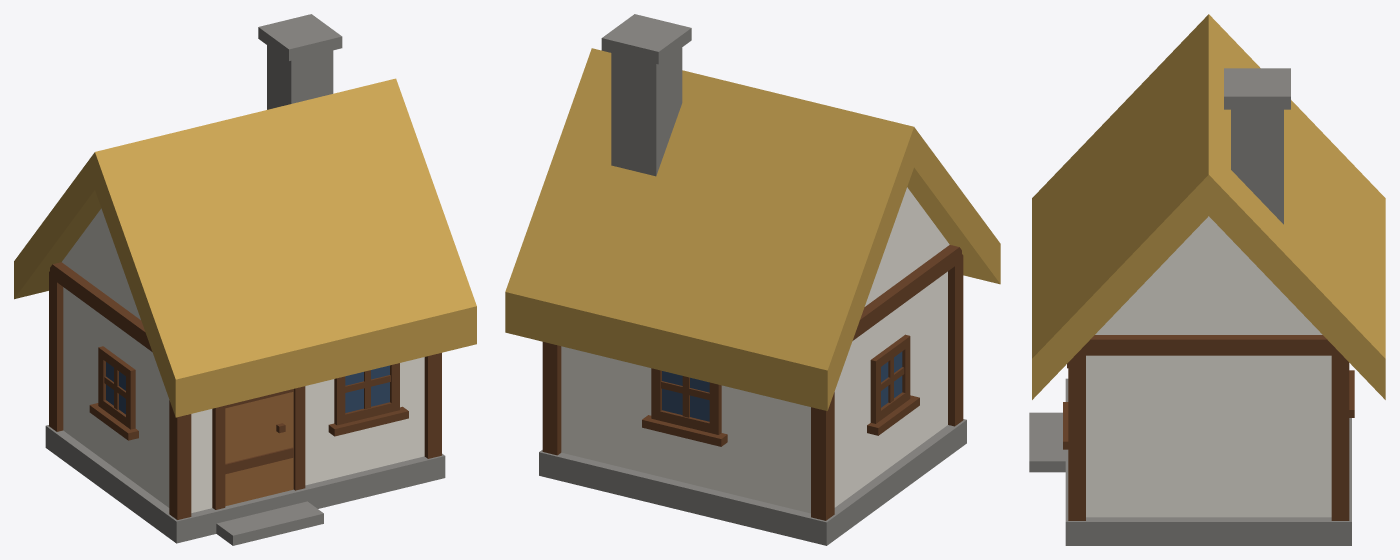
The model's file is cottage.glb.
The picture shows the model from 3 angles, left to right: view 1: azimuth 30°, elevation 25°; view 2: azimuth 150°, elevation 25°; view 3: azimuth 270°, elevation 25°; orthographic projection. The views are drawn at different scales.
Visible parts, largest first — view 1: Cottage roof, Cottage walls, Cottage plinth, Cottage timbers, Cottage door, Cottage chimney, Cottage window frames, Cottage door frame, Cottage step, Cottage windows; view 2: Cottage roof, Cottage walls, Cottage plinth, Cottage chimney, Cottage timbers, Cottage window frames, Cottage windows; view 3: Cottage roof, Cottage walls, Cottage timbers, Cottage plinth, Cottage chimney, Cottage step, Cottage window frames.
Boxes of the visible parts, x1=… form: Cottage roof: x1=14, y1=78, x2=476, y2=417; Cottage walls: x1=62, y1=208, x2=424, y2=512; Cottage plinth: x1=45, y1=425, x2=445, y2=543; Cottage timbers: x1=49, y1=262, x2=441, y2=519; Cottage door: x1=225, y1=392, x2=293, y2=506; Cottage chimney: x1=258, y1=14, x2=342, y2=109; Cottage window frames: x1=89, y1=346, x2=408, y2=440; Cottage door frame: x1=212, y1=386, x2=305, y2=509; Cottage step: x1=216, y1=501, x2=323, y2=545; Cottage windows: x1=106, y1=362, x2=389, y2=414; Cottage roof: x1=505, y1=48, x2=1000, y2=410; Cottage walls: x1=561, y1=187, x2=949, y2=513; Cottage plinth: x1=539, y1=419, x2=966, y2=545; Cottage chimney: x1=601, y1=14, x2=691, y2=176; Cottage timbers: x1=542, y1=245, x2=963, y2=520; Cottage window frames: x1=642, y1=334, x2=919, y2=446; Cottage windows: x1=662, y1=351, x2=902, y2=421; Cottage roof: x1=1032, y1=14, x2=1385, y2=399; Cottage walls: x1=1086, y1=216, x2=1331, y2=517; Cottage timbers: x1=1068, y1=335, x2=1349, y2=520; Cottage plinth: x1=1065, y1=378, x2=1351, y2=545; Cottage chimney: x1=1224, y1=68, x2=1290, y2=224; Cottage step: x1=1029, y1=412, x2=1065, y2=472; Cottage window frames: x1=1063, y1=370, x2=1354, y2=449.
Size of the model in its own units: 4.3 by 5.4 by 4.03.
